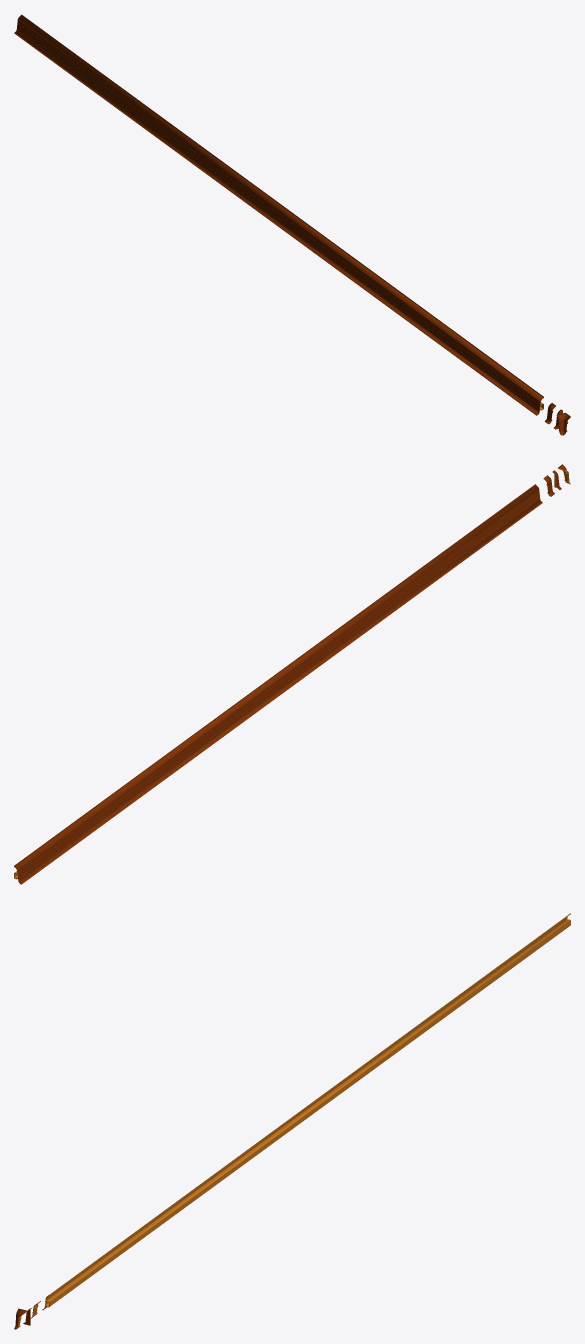
The model's file is -_skirting_board_for_the_floor.glb.
The picture shows the model from 3 angles, top to bottom: view 1: azimuth 30°, elevation 25°; view 2: azimuth 150°, elevation 25°; view 3: azimuth 330°, elevation 25°; orthographic projection.
Parts seen in each view (by area): view 1: G-__555573_1, G-__555627_5; view 2: G-__555573_1, G-__555627_5; view 3: G-__555573_1.
Boxes of the visible parts, x1,y1,x2,y2 form: G-__555573_1: (14,14,543,415); G-__555627_5: (17,22,542,409); G-__555573_1: (14,484,542,884); G-__555627_5: (16,492,539,878); G-__555573_1: (42,913,570,1310).
Bounding box in the file's own units: 0.0306 × 0.0546 × 3.16.
2 materials, 1 textured.
